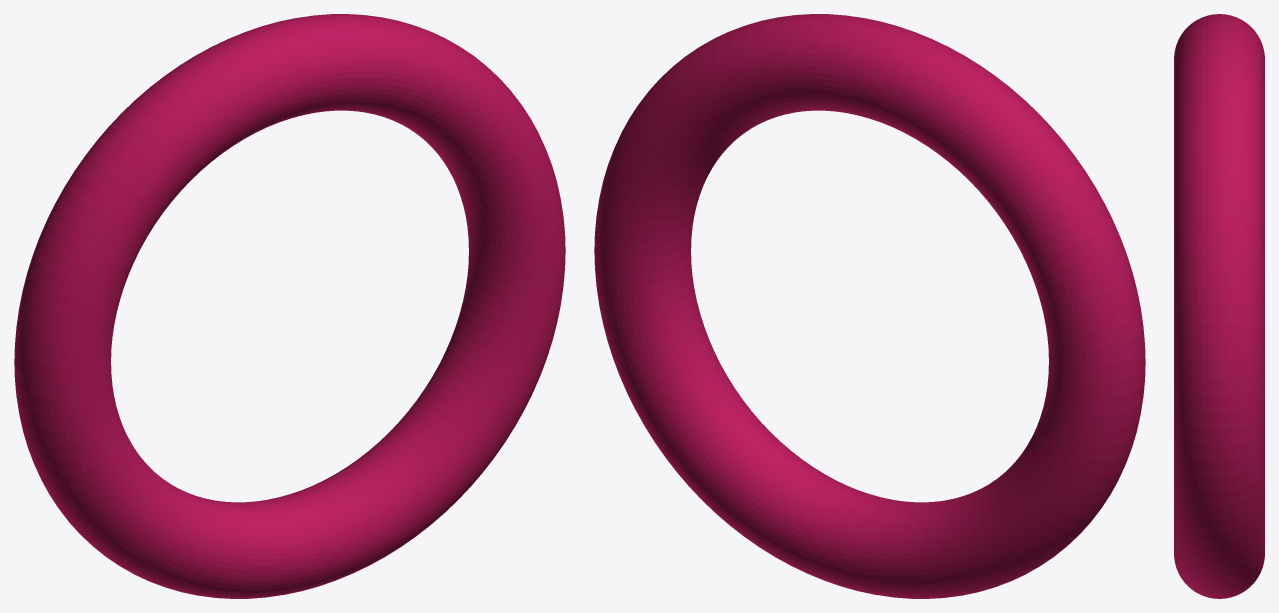
The picture shows the model from 3 angles, left to right: view 1: azimuth 30°, elevation 25°; view 2: azimuth 150°, elevation 25°; view 3: azimuth 270°, elevation 25°; orthographic projection. The views are drawn at different scales.
Parts seen in each view (by area): view 1: world; view 2: world; view 3: world.
Boxes of the visible parts, x1,y1,x2,y2 form: world: (14, 14, 565, 598); world: (594, 14, 1145, 598); world: (1174, 14, 1264, 598).
Bounding box in the file's own units: 30 × 30 × 4.66.
